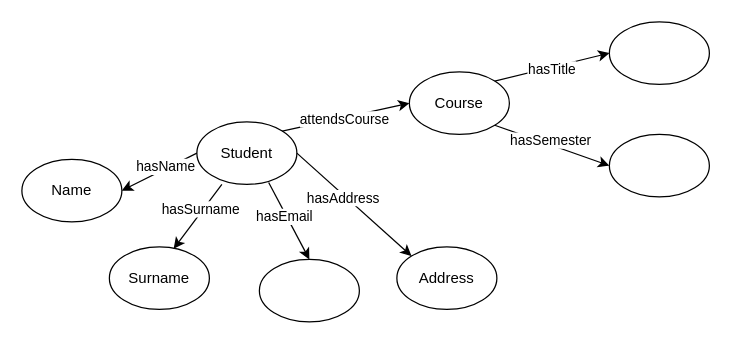
Some shapes in this 731 by 344 pixel diagram are drawn without their labels. Here are the shapes that lost their labels. From the top down, the centre of each, then its label:
the point at 658,52: Title
the point at 658,165: Semester
the point at 308,290: Email
